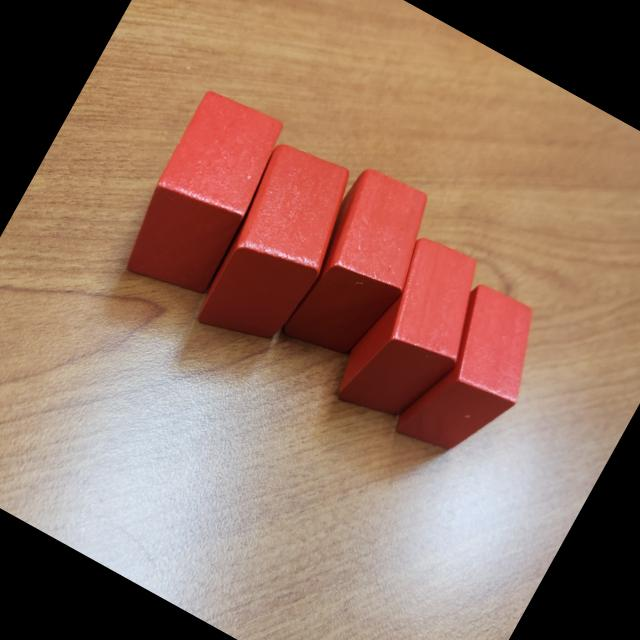red: (185, 133, 372, 362), (111, 84, 298, 311), (324, 227, 506, 442), (270, 159, 450, 376), (392, 278, 560, 478)
